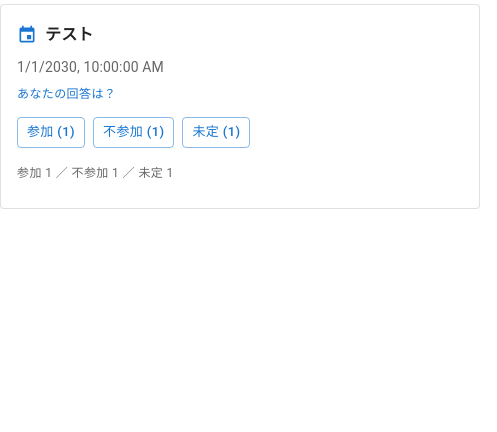
EventCard - 会話イベント投稿 (#108) › 参加者一覧表示 › 集計をクリックすると参加者一覧パネル（going/not_going/maybe）が開く
Note: event-summary をクリックするとパネルが開く
Click the button with test id "event-summary": coordinates (95, 173) [17,166,174,180]
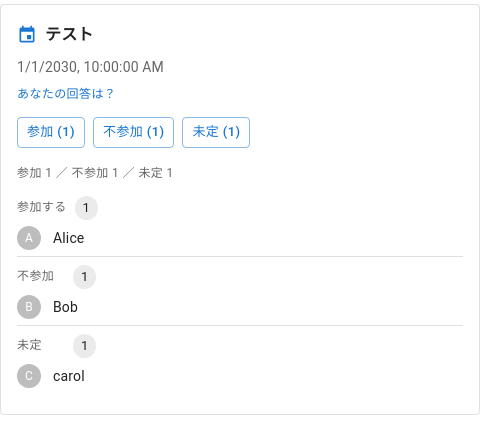
Check: the element with test id "rsvp-panel" is shown, box [17,196,98,388]
Check: the element with test id "rsvp-panel" reads "参加する 1 A Alice 不参加 1 B Bob 未定 1 C carol", box [17,200,67,214]
Check: the element with test id "rsvp-panel" shows "不参加", box [17,269,54,283]
